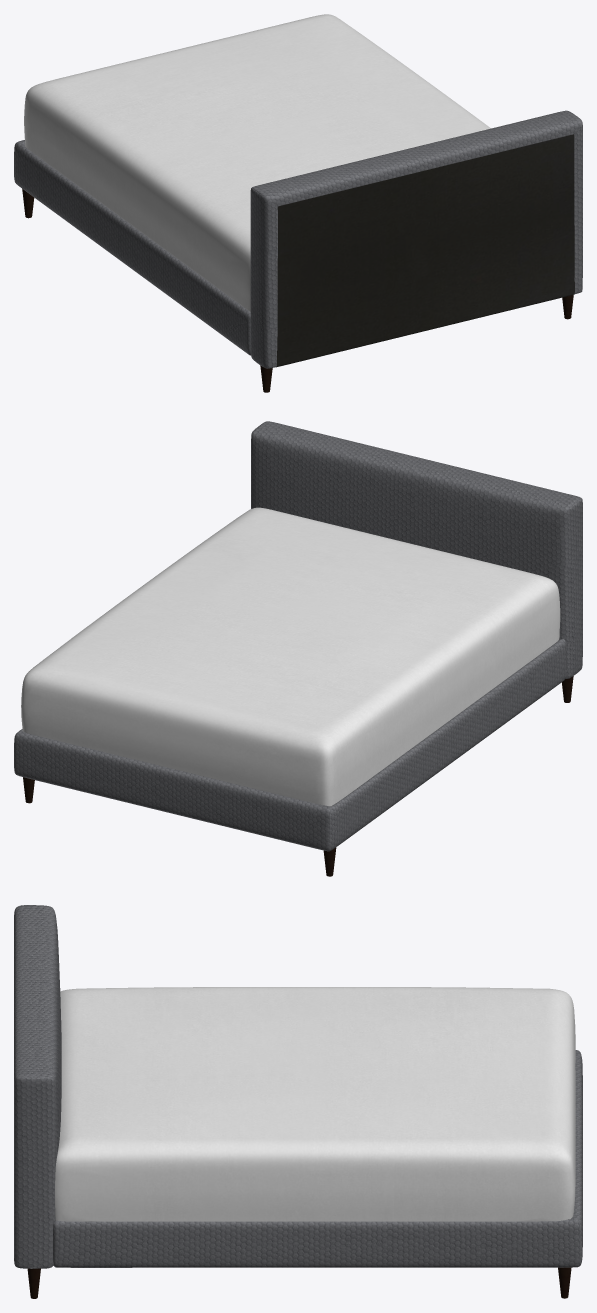
The model's file is NiceBed.glb.
3 views of the same model, one above another, from view 1: azimuth 30°, elevation 25°; view 2: azimuth 150°, elevation 25°; view 3: azimuth 270°, elevation 25° (orthographic). The views are drawn at different scales.
Parts seen in each view (by area): view 1: not_clear_obj_1_v6, not_clear_obj_2_v6, not_clear_obj_0_v6; view 2: not_clear_obj_2_v6, not_clear_obj_1_v6, not_clear_obj_0_v6; view 3: not_clear_obj_2_v6, not_clear_obj_1_v6, not_clear_obj_0_v6.
Part boxes in pixels (left/top/right/bottom): not_clear_obj_1_v6: left=14, top=110, right=582, bottom=368; not_clear_obj_2_v6: left=24, top=14, right=490, bottom=311; not_clear_obj_0_v6: left=22, top=189, right=573, bottom=392; not_clear_obj_2_v6: left=21, top=507, right=560, bottom=806; not_clear_obj_1_v6: left=14, top=421, right=582, bottom=851; not_clear_obj_0_v6: left=23, top=676, right=573, bottom=876; not_clear_obj_2_v6: left=55, top=987, right=575, bottom=1221; not_clear_obj_1_v6: left=14, top=905, right=582, bottom=1268; not_clear_obj_0_v6: left=27, top=1267, right=571, bottom=1298.
Size of what is drawn, in the model's own units: 1.6 by 0.9652 by 2.21.
Materials: 3 (3 with a texture image).
